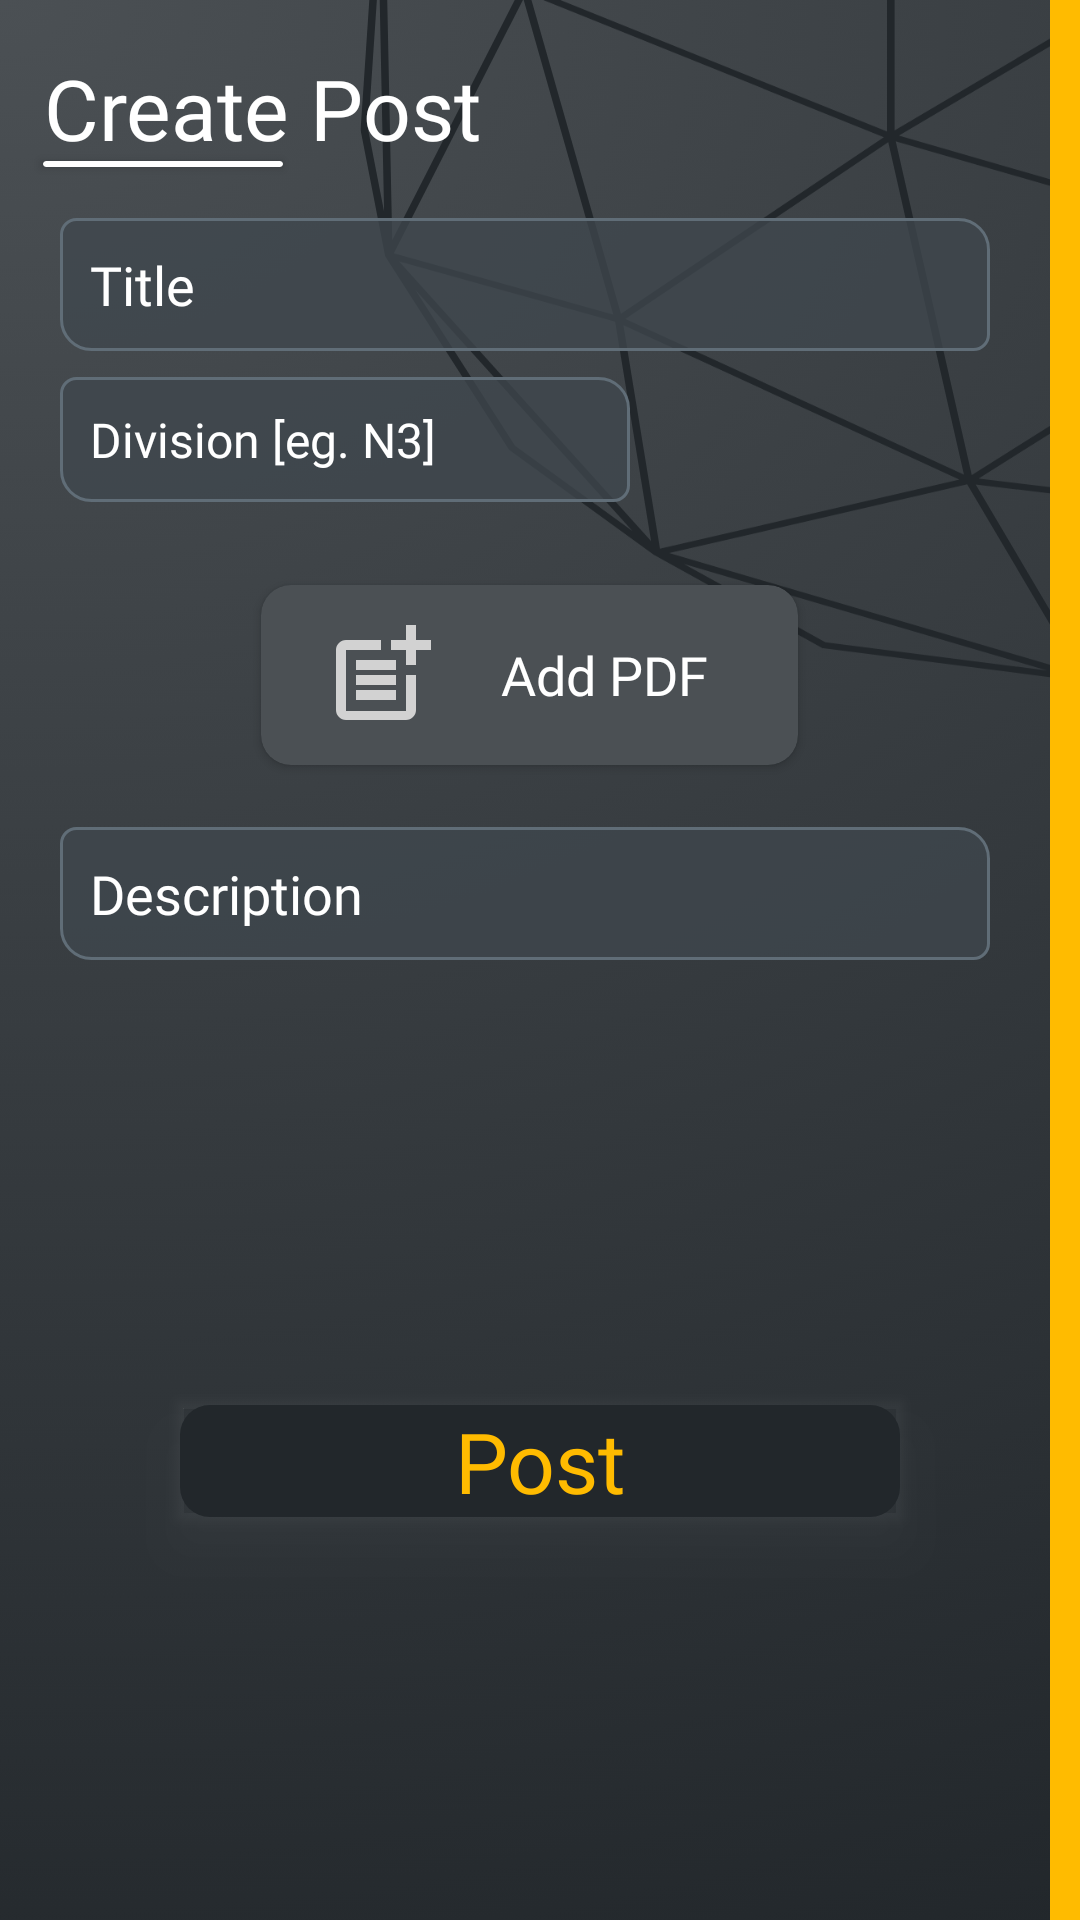

Icon bounding boxes for this 1080 × 1920 phone screenshot, format (x1, y1, x2, y2):
addpost: (336, 625, 431, 720)
